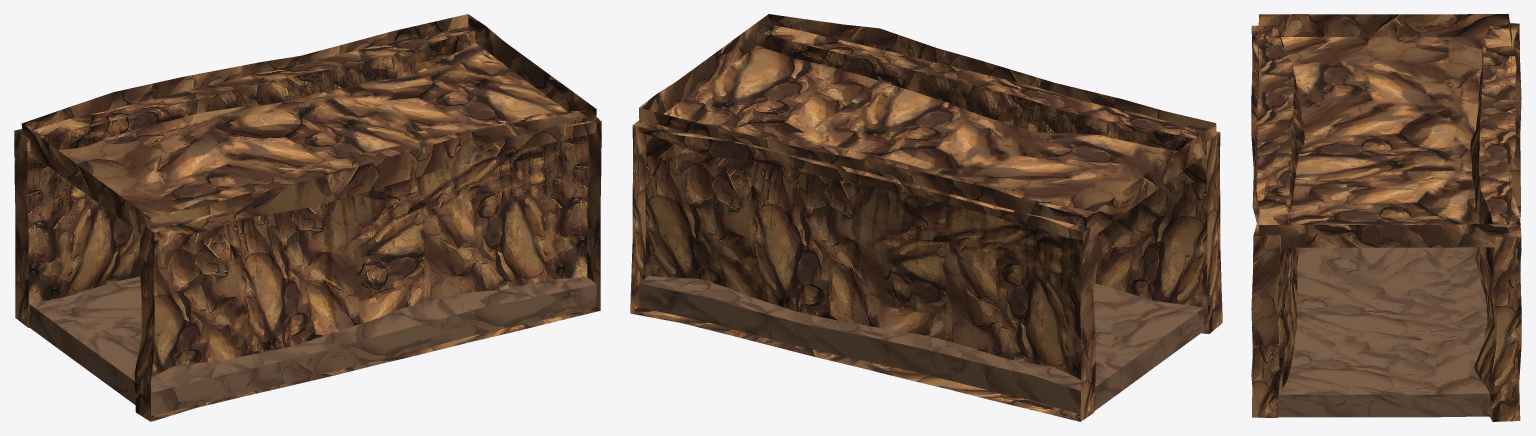
File: cave_straight.fbx
3 renders of one model, left to right at view 1: azimuth 30°, elevation 25°; view 2: azimuth 150°, elevation 25°; view 3: azimuth 270°, elevation 25°, orthographic. The views are drawn at different scales.
Visible parts, largest first — view 1: pCube4, pCube2, pCube3, pCube5; view 2: pCube3, pCube2, pCube4, pCube5; view 3: pCube2, pCube5, pCube3, pCube4.
Boxes of the visible parts, x1,y1,x2,y2 form: pCube4: [134, 110, 601, 421]; pCube2: [21, 14, 596, 240]; pCube3: [14, 26, 475, 327]; pCube5: [28, 276, 596, 416]; pCube3: [630, 120, 1098, 421]; pCube2: [639, 14, 1216, 240]; pCube4: [757, 24, 1222, 333]; pCube5: [639, 276, 1204, 414]; pCube2: [1255, 14, 1511, 247]; pCube5: [1277, 247, 1491, 417]; pCube3: [1470, 23, 1521, 421]; pCube4: [1251, 25, 1304, 417].
Size of the model in its own units: 20.36 by 9.14 by 10.84.
Materials: 3 (3 with a texture image).
